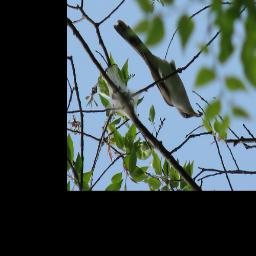Cuckoo: (113, 23, 201, 121)
